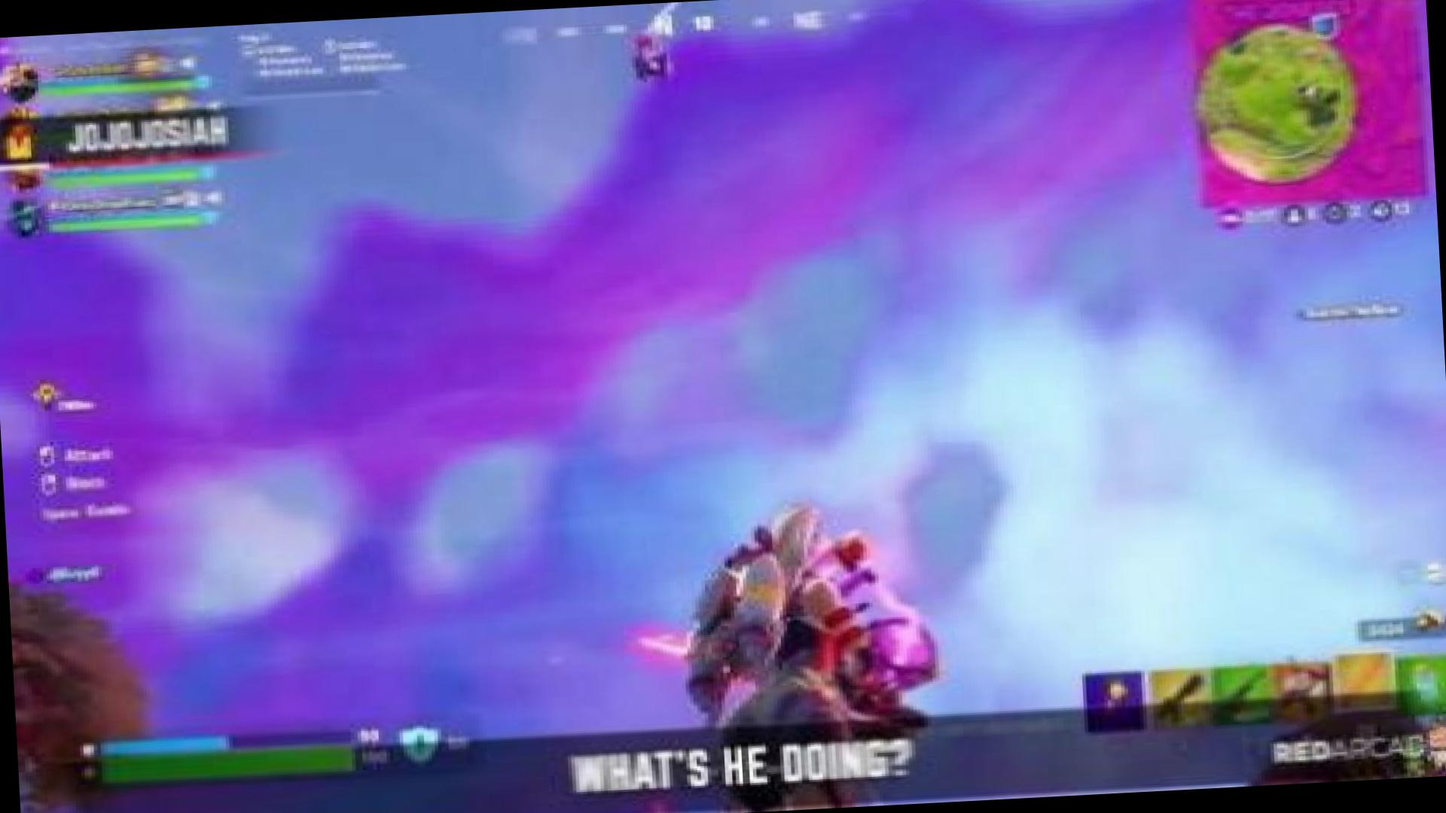player: (676, 522, 918, 794)
